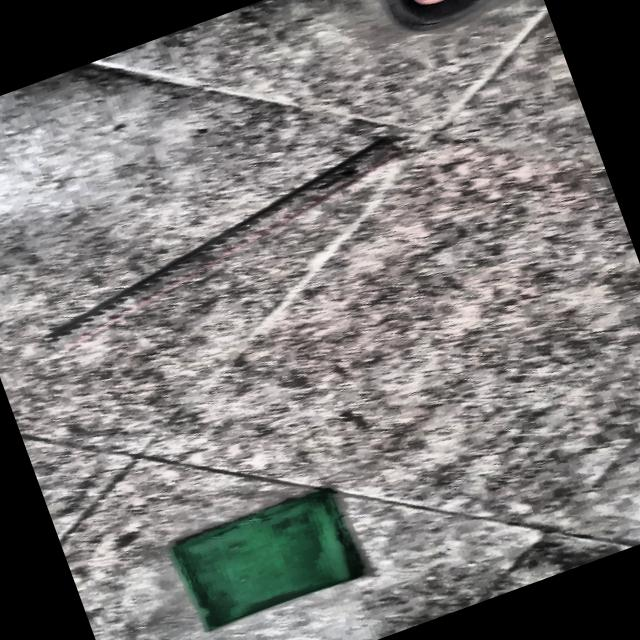payload: (171, 488, 366, 631)
